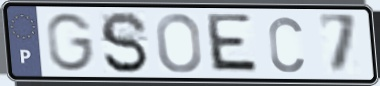7: (315, 12, 360, 78)
C: (266, 14, 307, 75)
E: (206, 11, 262, 76)
G: (44, 11, 97, 74)
O: (154, 12, 205, 75)
S: (97, 10, 151, 76)
